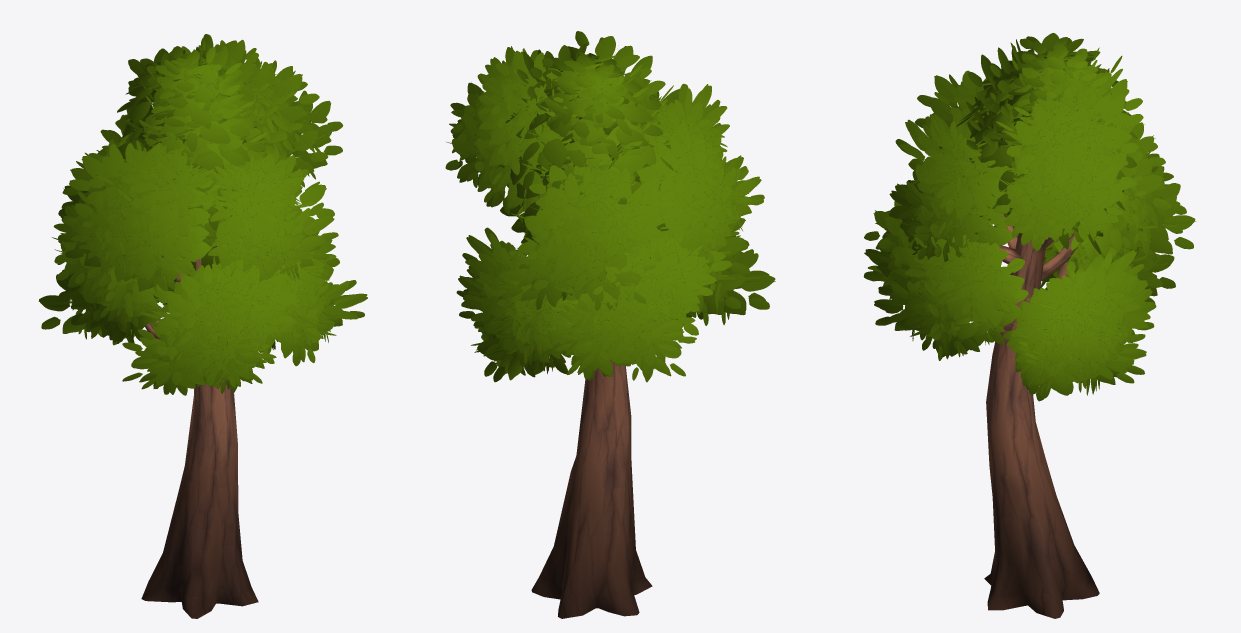
The model's file is CommonTree_1_s.gltf.
3 views of the same model, side by side, from view 1: azimuth 30°, elevation 25°; view 2: azimuth 150°, elevation 25°; view 3: azimuth 270°, elevation 25° (orthographic). The views are drawn at different scales.
Parts seen in each view (by area): view 1: CommonTree_1; view 2: CommonTree_1; view 3: CommonTree_1.
Boxes of the visible parts, box(x1,y1,x2,y2) form: CommonTree_1: box(38, 34, 367, 618); CommonTree_1: box(445, 31, 775, 618); CommonTree_1: box(863, 33, 1196, 618).
Bounding box in the file's own units: 4.31 × 7.26 × 4.58.
2 materials, 2 textured.
